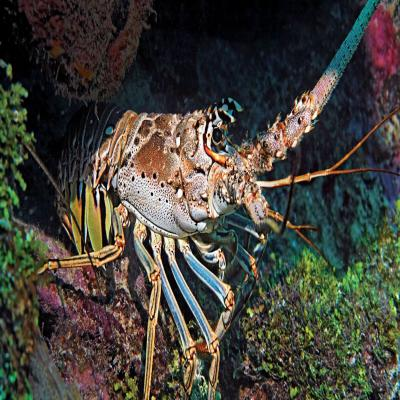lobster: (55, 103, 270, 284)
